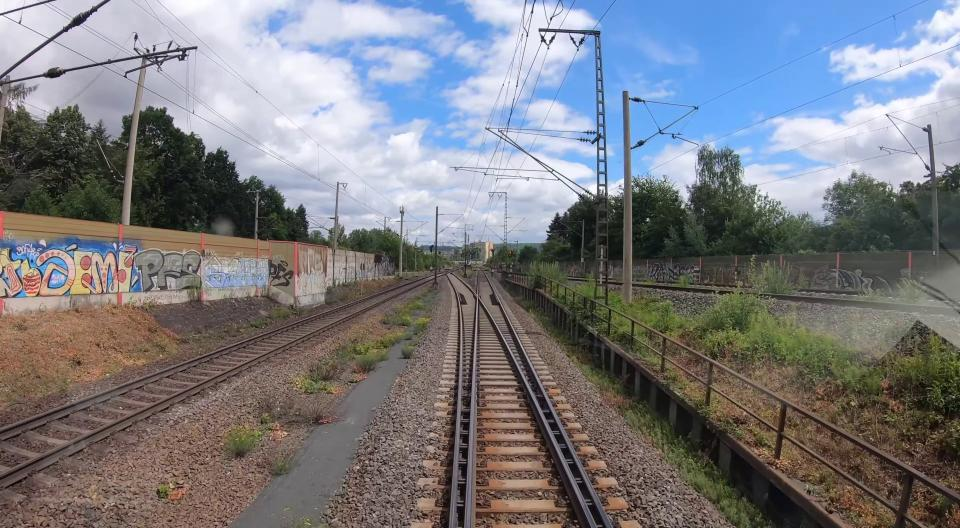Plant: (295, 289, 429, 395), (254, 397, 348, 440), (224, 427, 261, 461), (266, 456, 297, 477), (402, 342, 417, 359), (155, 483, 168, 501)
